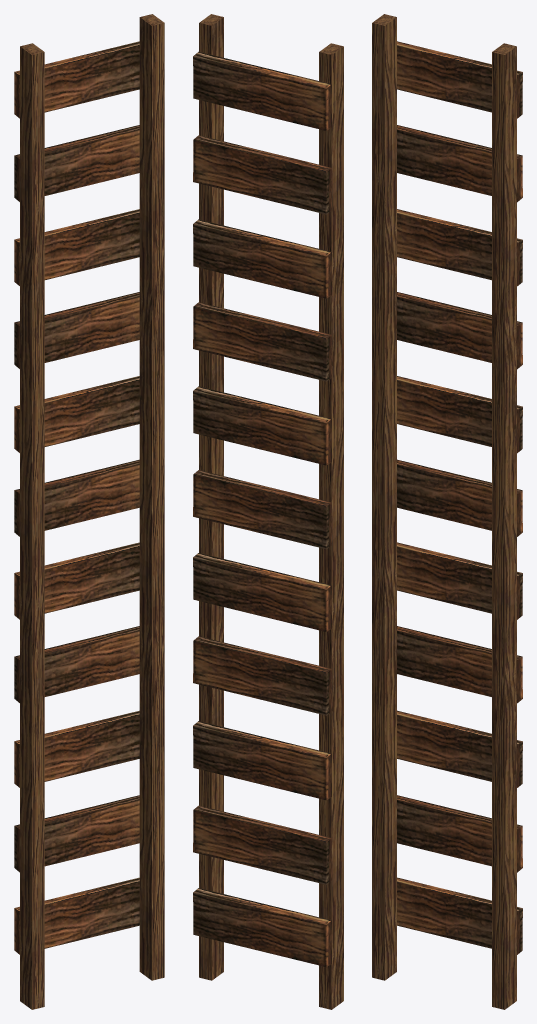
Rendered from INST_LT_LADDER_01.fbx.
3 views of the same model, side by side, from view 1: azimuth 30°, elevation 25°; view 2: azimuth 150°, elevation 25°; view 3: azimuth 330°, elevation 25° (orthographic).
Visible parts, largest first — view 1: INST_LT_LADDER_01; view 2: INST_LT_LADDER_01; view 3: INST_LT_LADDER_01.
Part boxes in pixels (bbox=[...]): INST_LT_LADDER_01: bbox=[14, 14, 164, 1009]; INST_LT_LADDER_01: bbox=[193, 14, 343, 1009]; INST_LT_LADDER_01: bbox=[372, 14, 522, 1009].
Size of the model in its own units: 5002 by 34248 by 1143.
2 materials, 2 textured.
